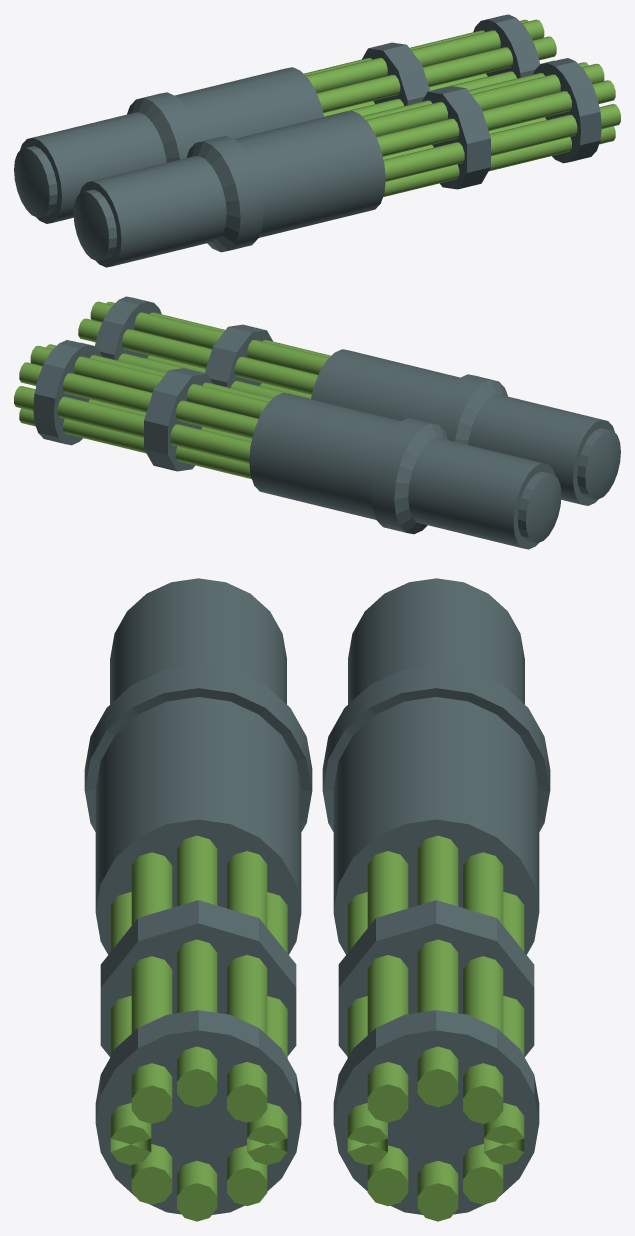
The model's file is SM_TurretGun_Top.fbx.
3 renders of one model, top to bottom at view 1: azimuth 30°, elevation 25°; view 2: azimuth 150°, elevation 25°; view 3: azimuth 270°, elevation 25°, orthographic. The views are drawn at different scales.
Parts seen in each view (by area): view 1: pCylinder12; view 2: pCylinder12; view 3: pCylinder12.
Boxes of the visible parts, x1,y1,x2,y2 form: pCylinder12: (14, 14, 620, 267); pCylinder12: (14, 296, 620, 549); pCylinder12: (84, 578, 550, 1221).
Size of the model in its own units: 116 by 22.13 by 45.27.
